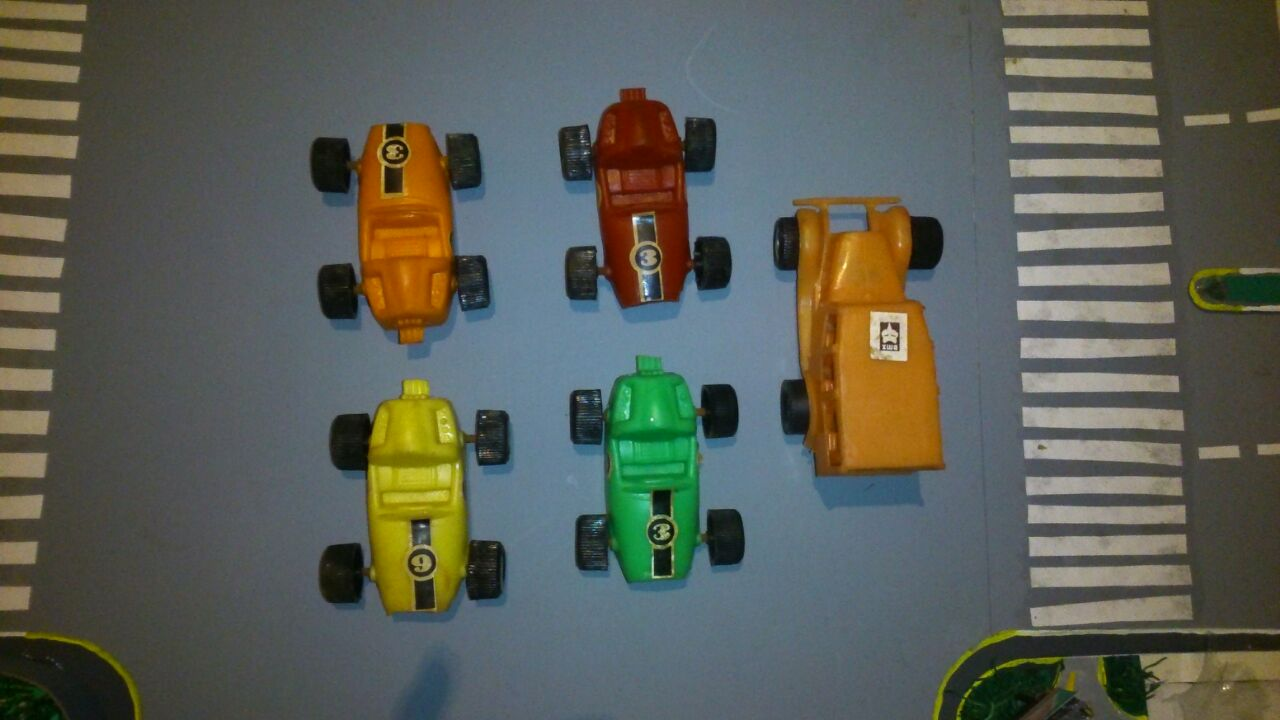amarillo: (324, 382, 507, 613)
naranja: (313, 117, 493, 344)
rojo: (564, 88, 730, 311)
verde: (570, 346, 746, 584)
